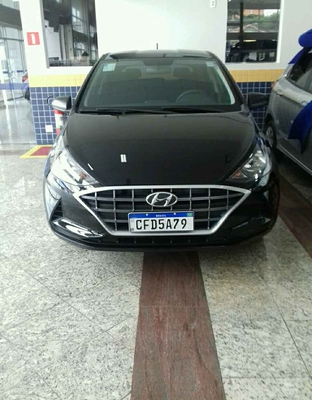Frontal Veiculo: (41, 50, 279, 253)
